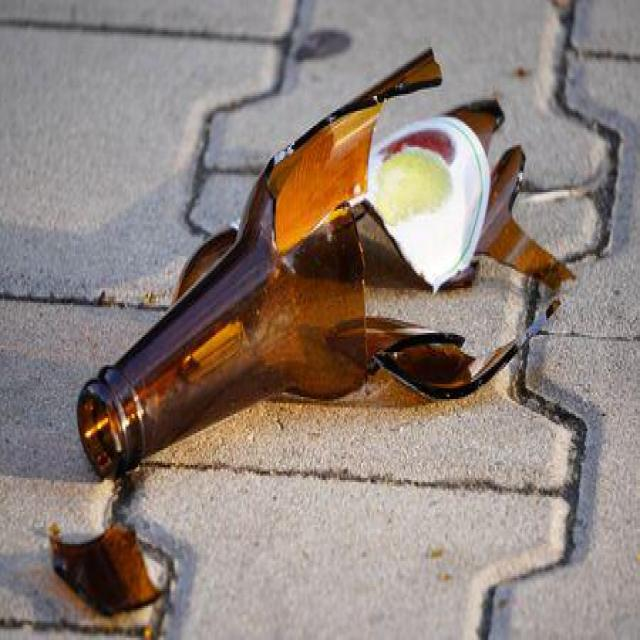non-organic waste: (68, 43, 586, 499)
